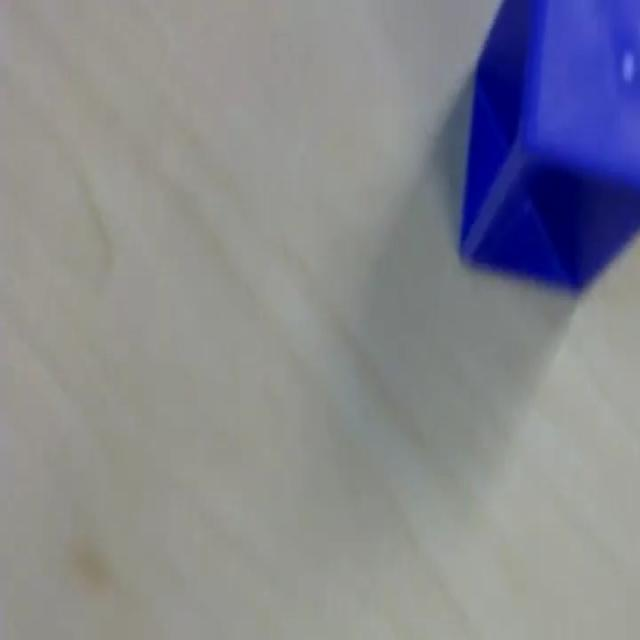blue_block: (456, 0, 638, 293)
